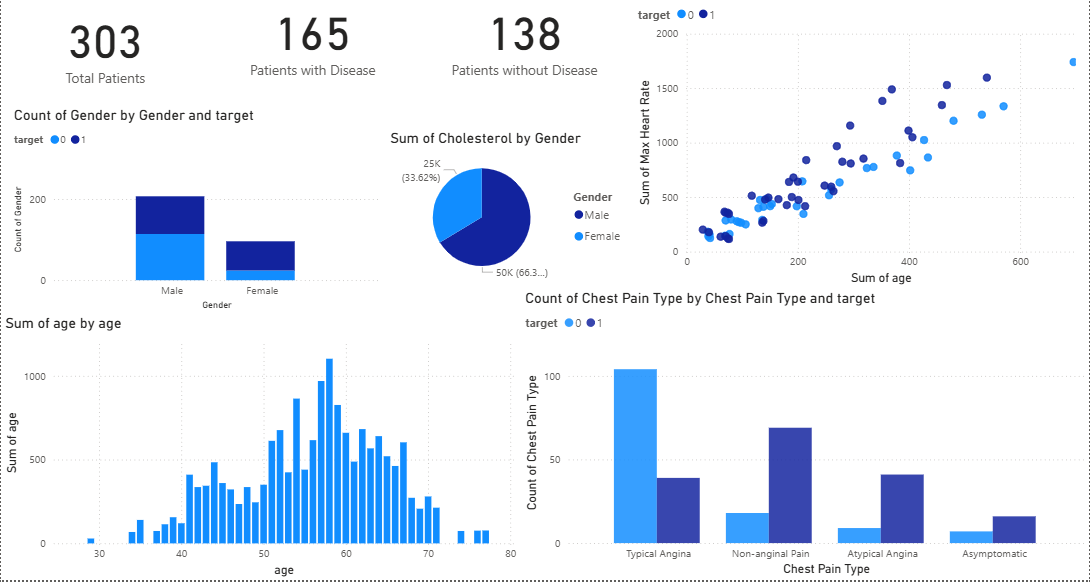

The dashboard page shown, as its layout file describes it:
{"tool":"powerbi","page":{"name":"Page 1","canvas":[1280,720],"ordinal":0},"visuals":[{"type":"card","title":"Total Patients","fields":{"Values":["heart.Total Patients"]},"box":[0,0,245.8,162.7],"z":0},{"type":"card","fields":{"Values":["heart.Patients with Disease"]},"box":[246.3,0,242.6,163],"z":1000},{"type":"card","fields":{"Values":["heart.Patients without Disease"]},"box":[488.9,0,255.6,163],"z":2000},{"type":"columnChart","fields":{"Category":["heart.Gender"],"Y":["CountNonNull(heart.Gender)"],"Series":["heart.target"]},"box":[10.2,162.7,440.7,244.1],"z":3000},{"type":"clusteredColumnChart","fields":{"Category":["heart.Chest Pain Type"],"Y":["CountNonNull(heart.Chest Pain Type)"],"Series":["heart.target"]},"box":[531,377.4,425.4,343.1],"z":4000},{"type":"columnChart","fields":{"Category":["heart.age"],"Y":["CountNonNull(heart.age)"]},"box":[0,406.2,516,314.2],"z":5000},{"type":"scatterChart","fields":{"X":["Sum(heart.age)"],"Y":["Sum(heart.Max Heart Rate)"],"Series":["heart.target"],"Category":["heart.age"]},"box":[744.1,30.9,535.3,347.1],"z":6000},{"type":"pieChart","fields":{"Category":["heart.Gender"],"Y":["Avg(heart.Cholesterol)"]},"box":[452.5,189.8,291.5,188.1],"z":7000},{"type":"advancedSlicerVisual","fields":{"Values":["heart.age"]},"box":[956.4,399.3,299.1,299.1],"z":7001}]}

Visuals, with their boxes on the page's 1280x720 design canvas (x1, y1, x2, y2). These are canvas units, not pixel positions in the 1090x585 screenshot, which may show the page scaled, cropped or inside an application window:
"Total Patients" card: [x1=0, y1=0, x2=246, y2=163]
card - heart.Patients with Disease: [x1=246, y1=0, x2=489, y2=163]
card - heart.Patients without Disease: [x1=489, y1=0, x2=744, y2=163]
columnChart - heart.Gender x CountNonNull(heart.Gender): [x1=10, y1=163, x2=451, y2=407]
clusteredColumnChart - heart.Chest Pain Type x CountNonNull(heart.Chest Pain Type): [x1=531, y1=377, x2=956, y2=720]
columnChart - heart.age x CountNonNull(heart.age): [x1=0, y1=406, x2=516, y2=720]
scatterChart - Sum(heart.age) x Sum(heart.Max Heart Rate): [x1=744, y1=31, x2=1279, y2=378]
pieChart - heart.Gender x Avg(heart.Cholesterol): [x1=452, y1=190, x2=744, y2=378]
advancedSlicerVisual - heart.age: [x1=956, y1=399, x2=1256, y2=698]
